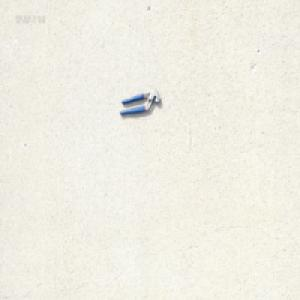Pliers: (118, 88, 161, 116)
